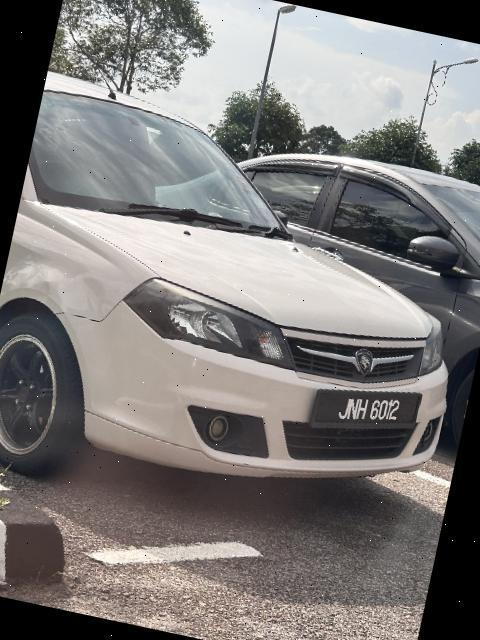JNH6012: (305, 368, 431, 455)
License_Plate: (305, 368, 431, 455)
car: (1, 58, 480, 552)
